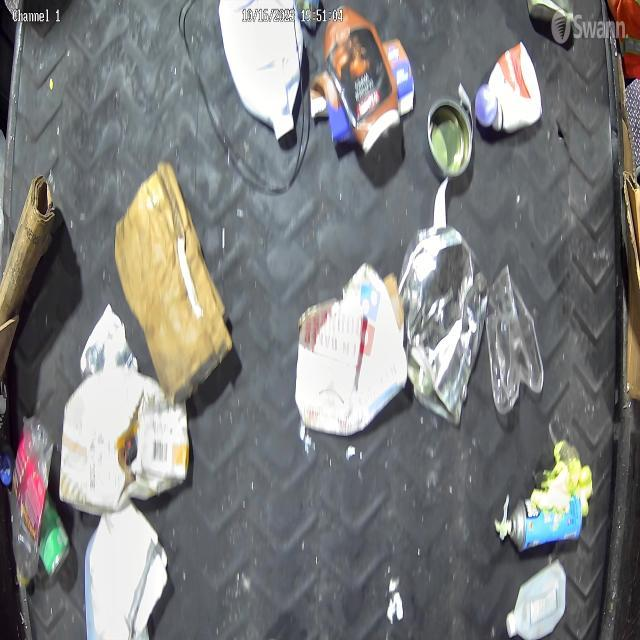can: (426, 85, 476, 189), (33, 496, 70, 589)
milk_jug: (212, 2, 308, 142), (504, 566, 578, 640)
plastic_bottle: (7, 421, 55, 590)
